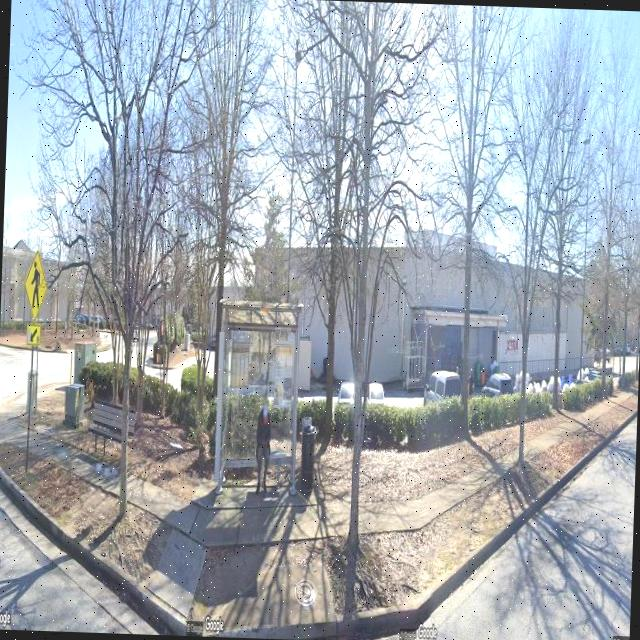seating: (86, 399, 136, 460), (252, 448, 286, 492)
shelter: (208, 300, 304, 498)
trash_can: (299, 426, 315, 496)
